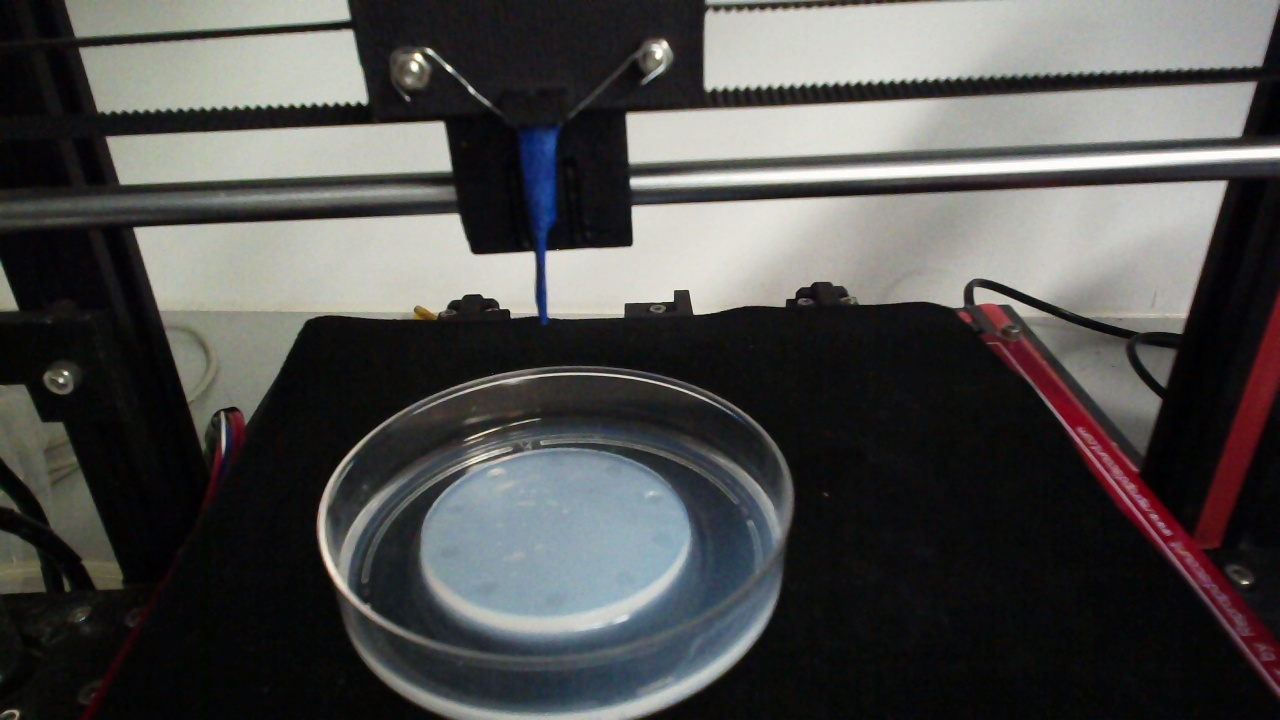groove: (472, 578, 498, 597), (650, 529, 674, 549), (614, 570, 638, 587), (543, 590, 566, 607), (643, 490, 666, 507), (439, 544, 461, 560), (603, 463, 624, 478), (545, 454, 565, 469), (485, 467, 506, 481), (443, 502, 464, 516)
needle: (520, 128, 557, 325)
